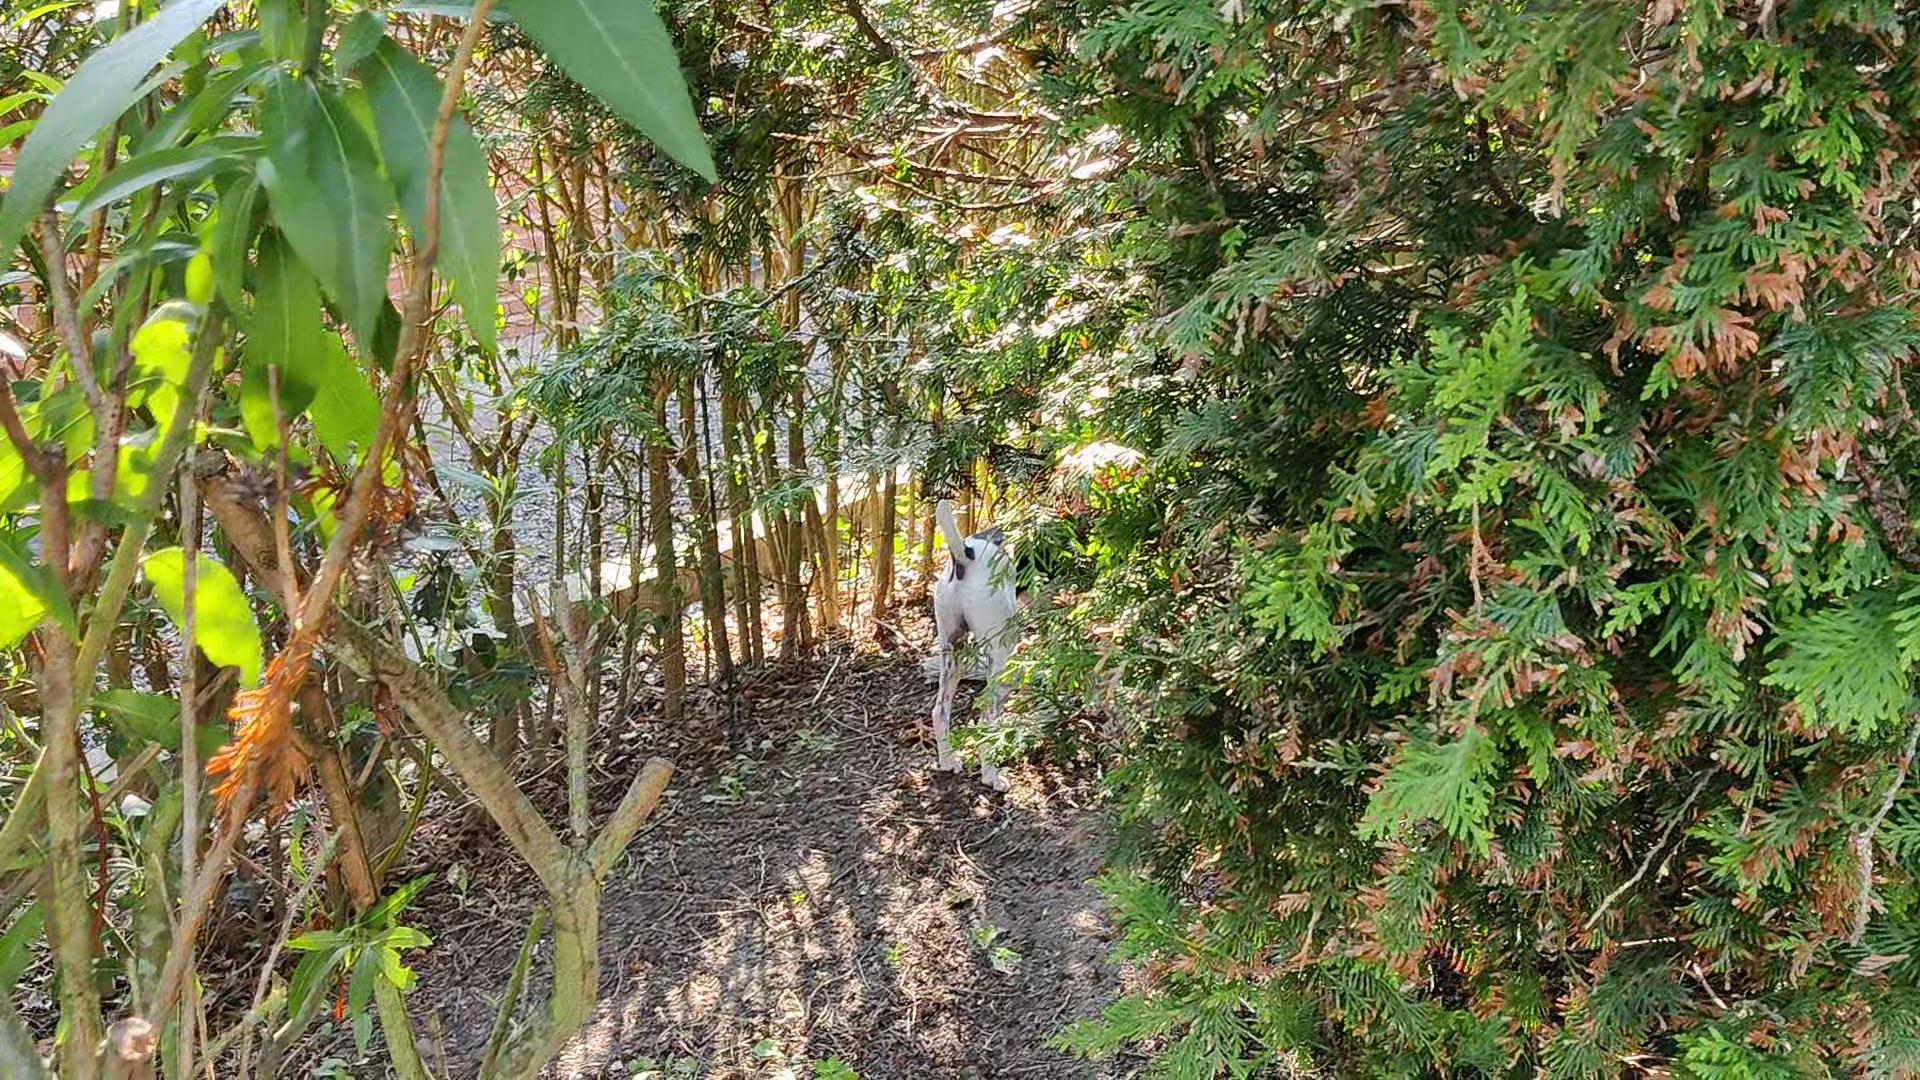Dog: (915, 484, 1109, 789)
